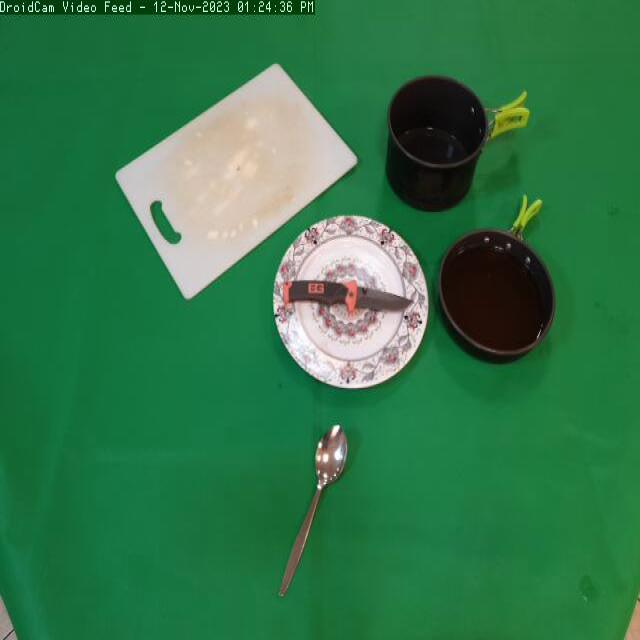cutting board: (105, 58, 361, 303)
fullpan: (439, 189, 564, 373)
knife: (282, 270, 416, 333)
plate: (268, 213, 429, 400)
pot: (382, 72, 537, 220)
spoon: (268, 417, 354, 603)
